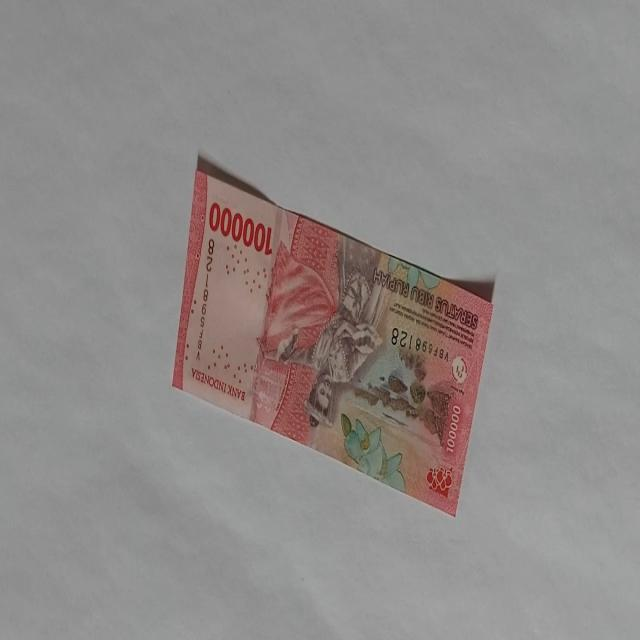seratus ribu rupiah: (172, 163, 494, 518)
